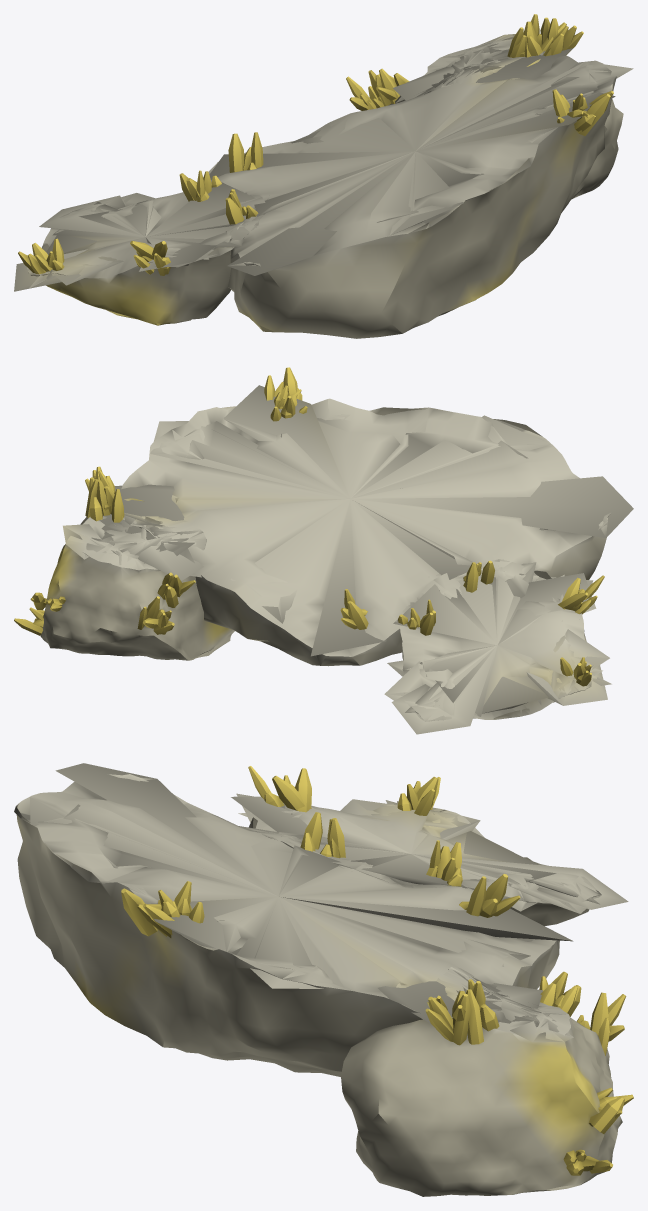
The model's file is sulphur-node-3.glb.
3 renders of one model, top to bottom at view 1: azimuth 30°, elevation 25°; view 2: azimuth 150°, elevation 25°; view 3: azimuth 270°, elevation 25°, orthographic. The views are drawn at different scales.
Visible parts, largest first — view 1: Body_lod0; view 2: Body_lod0; view 3: Body_lod0.
Boxes of the visible parts, x1=… form: Body_lod0: x1=14, y1=14, x2=633, y2=338; Body_lod0: x1=14, y1=367, x2=633, y2=734; Body_lod0: x1=14, y1=763, x2=633, y2=1196.
Size of what is drawn, in the model's own units: 1.87 by 0.5883 by 1.34.
